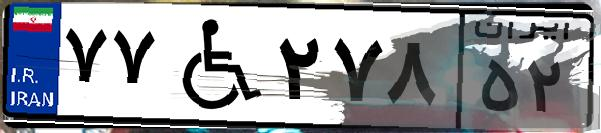2: (270, 28, 330, 110), (525, 38, 570, 115)
5: (475, 38, 525, 113)
7: (330, 28, 385, 110), (57, 26, 110, 100), (110, 28, 158, 98)
8: (385, 28, 445, 110)
ژ (معلولین و جانبازان): (158, 12, 270, 120)
